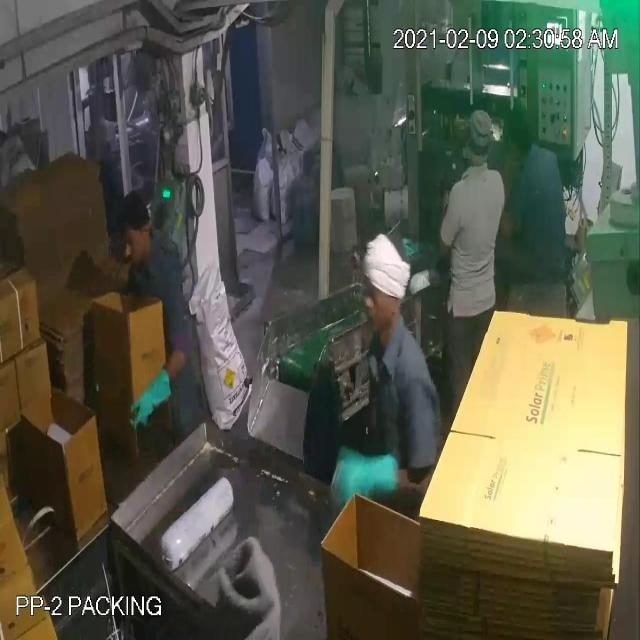gloves: (325, 438, 409, 510), (126, 366, 180, 428)
